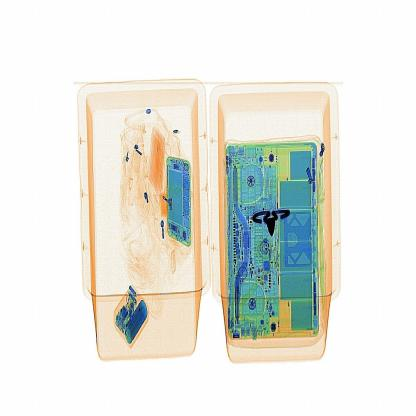gun: (248, 206, 293, 238)
